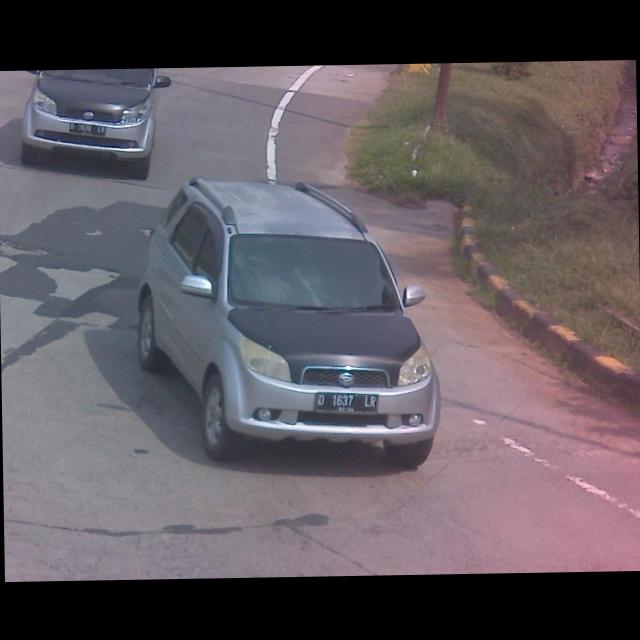plate: (313, 389, 380, 415)
